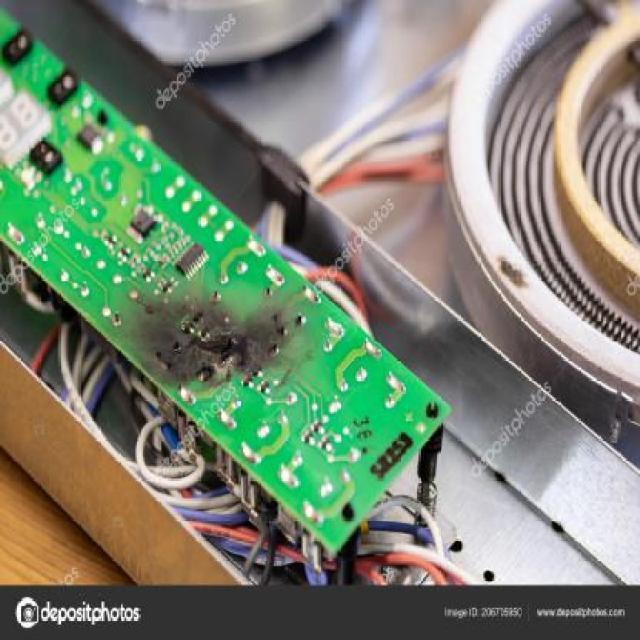Burn: (123, 291, 297, 397)
